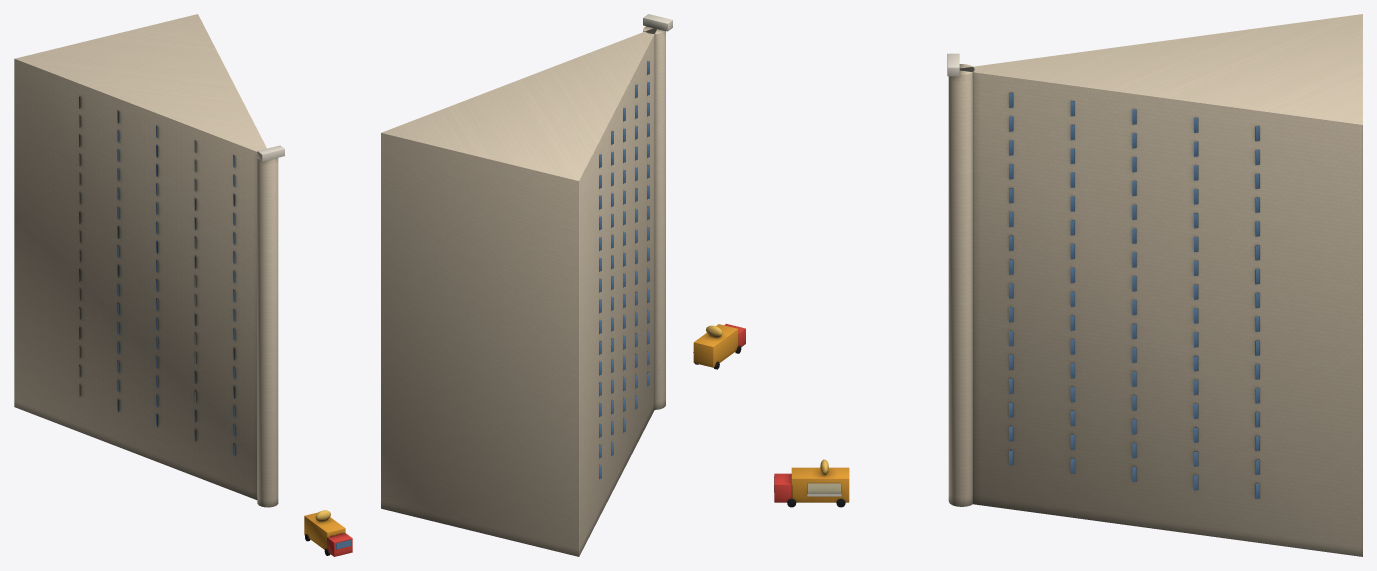
Rendered from flatiron.glb.
3 renders of one model, left to right at view 1: azimuth 30°, elevation 25°; view 2: azimuth 150°, elevation 25°; view 3: azimuth 270°, elevation 25°, orthographic. The views are drawn at different scales.
Visible parts, largest first — view 1: flatiron; view 2: flatiron; view 3: flatiron.
Part boxes in pixels (x1,y1,x2,y2): flatiron: [14, 14, 352, 556]; flatiron: [381, 14, 745, 556]; flatiron: [774, 14, 1362, 556].
Size of the model in its own units: 31.98 by 59.2 by 71.65.
Materials: 1 (1 with a texture image).
